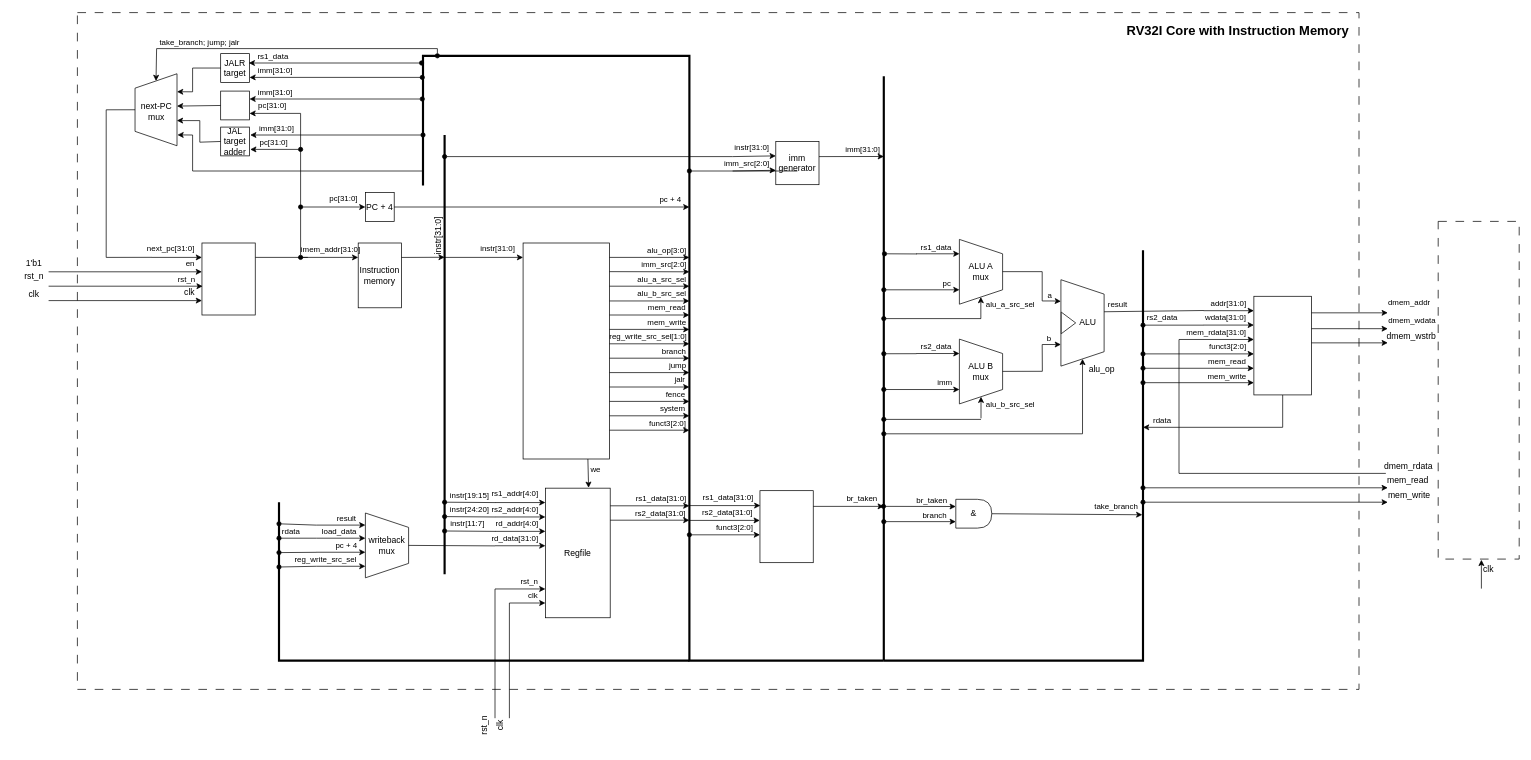
Some shapes in this 1531 by 760 pixel diagram are drawn without their labels. Here are the shapes that lost their labels. From the top down, the box of each, then its label:
(220, 90, 249, 120): Branch target adder
(201, 242, 255, 315): Program counter
(522, 242, 609, 459): Control unit
(1253, 296, 1311, 395): Load-store unit
(1437, 221, 1519, 559): DATA MEMORY
(759, 490, 813, 563): Branch comparator
